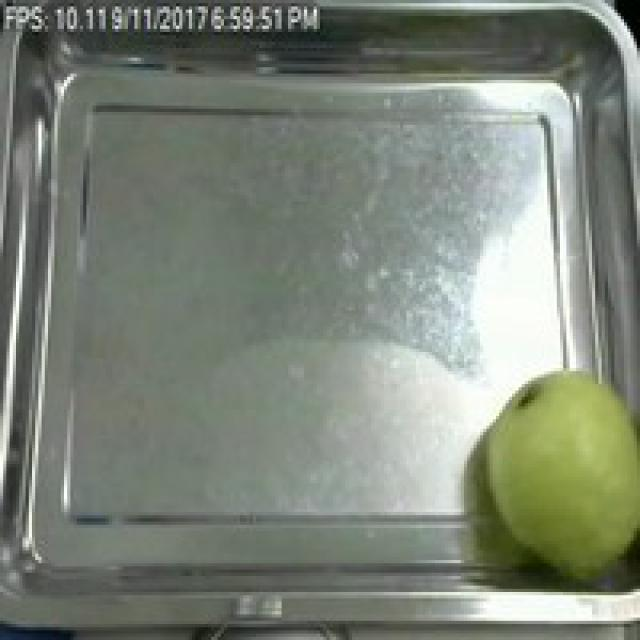Fruit: (470, 356, 640, 582)
